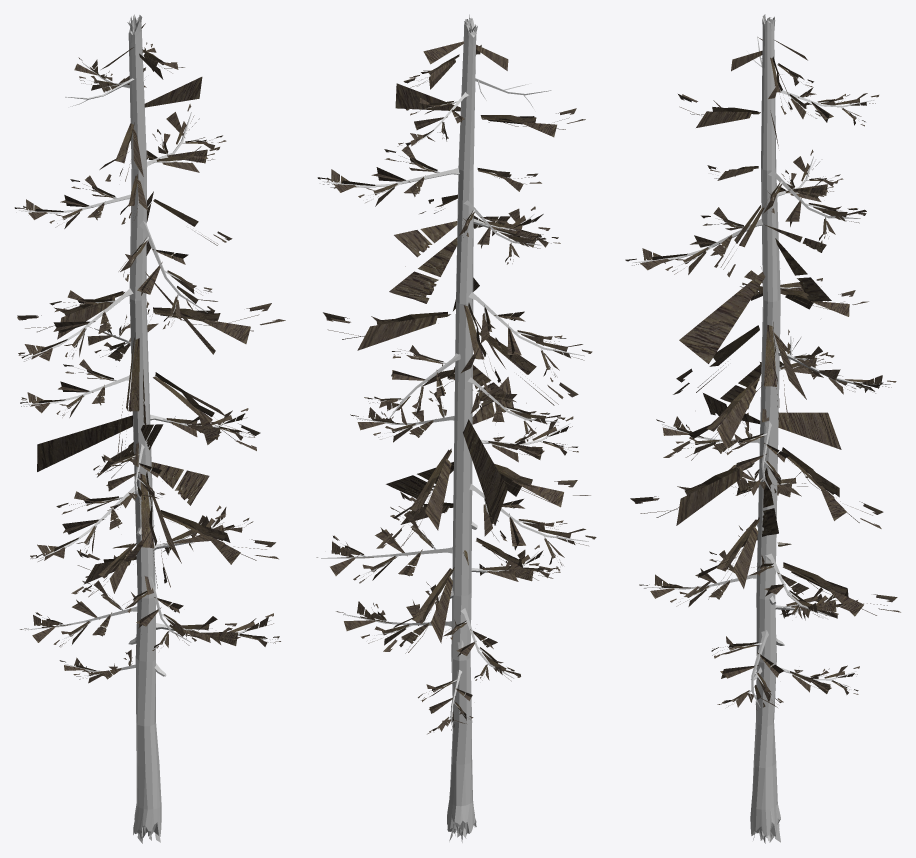
Rendered from SM_PineDead03.obj.
3 views of the same model, side by side, from view 1: azimuth 30°, elevation 25°; view 2: azimuth 150°, elevation 25°; view 3: azimuth 270°, elevation 25° (orthographic).
Visible parts, largest first — view 1: SM_PineDead03; view 2: SM_PineDead03; view 3: SM_PineDead03.
Part boxes in pixels (bbox=[...]): SM_PineDead03: bbox=[14, 14, 285, 843]; SM_PineDead03: bbox=[316, 14, 596, 842]; SM_PineDead03: bbox=[625, 14, 900, 843].
Size of what is drawn, in the model's own units: 136 by 407 by 124.
